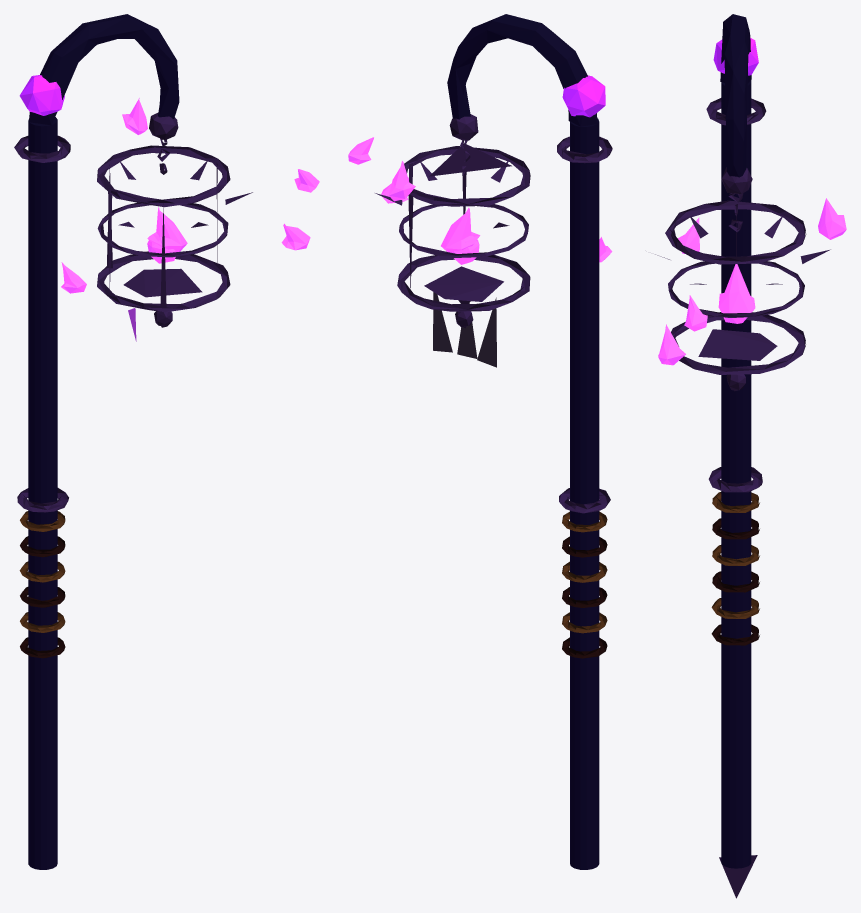
File: lantern_6.glb
3 renders of one model, left to right at view 1: azimuth 30°, elevation 25°; view 2: azimuth 150°, elevation 25°; view 3: azimuth 270°, elevation 25°, orthographic. The views are drawn at different scales.
Visible parts, largest first — view 1: Staff__001, Staff__002, Lantern__021, Lantern__022, Lantern__031, Staff__013, Lantern__023, Flame__033, Staff__010, Staff__011; view 2: Staff__001, Staff__002, Lantern__022, Lantern__021, Lantern__031, Staff__013, Lantern__030, Lantern__023, Flame__033, Staff__010, Tags__035, Tags__037 (+3 smaller); view 3: Staff__001, Staff__002, Lantern__021, Lantern__022, Lantern__031, Lantern__023, Flame__033, Staff__011, Orbit__045, Staff__010, Orbit__046, Staff__012 (+9 smaller).
Boxes of the visible parts, left/top/right/bottom form: Staff__001: left=28, top=117, right=57, bottom=869; Staff__002: left=29, top=14, right=179, bottom=125; Lantern__021: left=97, top=145, right=230, bottom=207; Lantern__022: left=97, top=251, right=230, bottom=312; Lantern__031: left=123, top=268, right=202, bottom=297; Staff__013: left=19, top=75, right=64, bottom=115; Lantern__023: left=97, top=202, right=228, bottom=257; Flame__033: left=147, top=207, right=187, bottom=251; Staff__010: left=14, top=135, right=70, bottom=162; Staff__011: left=17, top=488, right=68, bottom=512; Staff__001: left=570, top=118, right=599, bottom=869; Staff__002: left=447, top=14, right=597, bottom=126; Lantern__022: left=397, top=254, right=530, bottom=311; Lantern__021: left=404, top=146, right=530, bottom=206; Lantern__031: left=424, top=266, right=503, bottom=301; Staff__013: left=562, top=75, right=605, bottom=117; Lantern__030: left=429, top=143, right=511, bottom=176; Lantern__023: left=399, top=204, right=528, bottom=257; Flame__033: left=441, top=207, right=480, bottom=252; Staff__010: left=557, top=136, right=612, bottom=163; Tags__035: left=477, top=297, right=496, bottom=367; Tags__037: left=433, top=292, right=452, bottom=352; Staff__001: left=721, top=80, right=751, bottom=868; Staff__002: left=720, top=14, right=751, bottom=177; Lantern__021: left=665, top=200, right=806, bottom=264; Lantern__022: left=671, top=312, right=805, bottom=374; Lantern__031: left=698, top=329, right=777, bottom=360; Lantern__023: left=668, top=261, right=804, bottom=317; Flame__033: left=718, top=264, right=755, bottom=313; Staff__011: left=708, top=467, right=762, bottom=492; Orbit__045: left=818, top=198, right=846, bottom=239; Staff__010: left=706, top=98, right=766, bottom=125; Orbit__046: left=658, top=324, right=685, bottom=365; Staff__012: left=719, top=855, right=757, bottom=898.
Size of the model in its own units: 0.4182 by 1.23 by 0.253.
